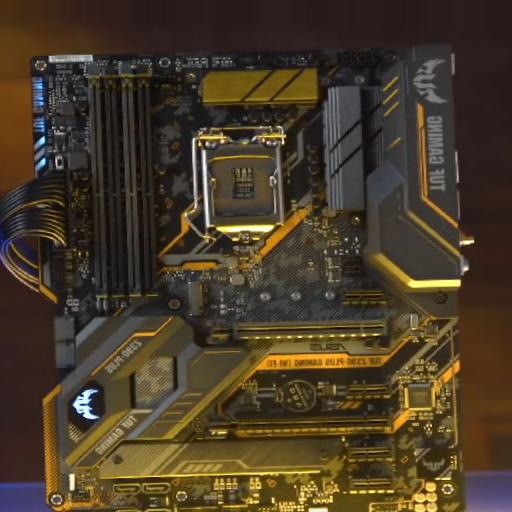CPU: (207, 126, 286, 245)
GPU: (202, 411, 393, 444), (205, 318, 388, 347)
MOTHERBOARD: (44, 44, 459, 512)
RAM: (90, 64, 161, 304)
SSD: (185, 280, 201, 318)
